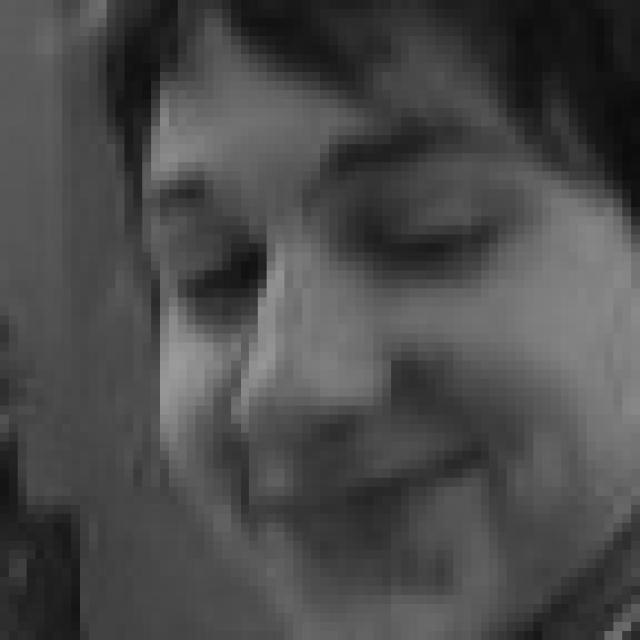real: (146, 2, 544, 598), (162, 202, 510, 306)
